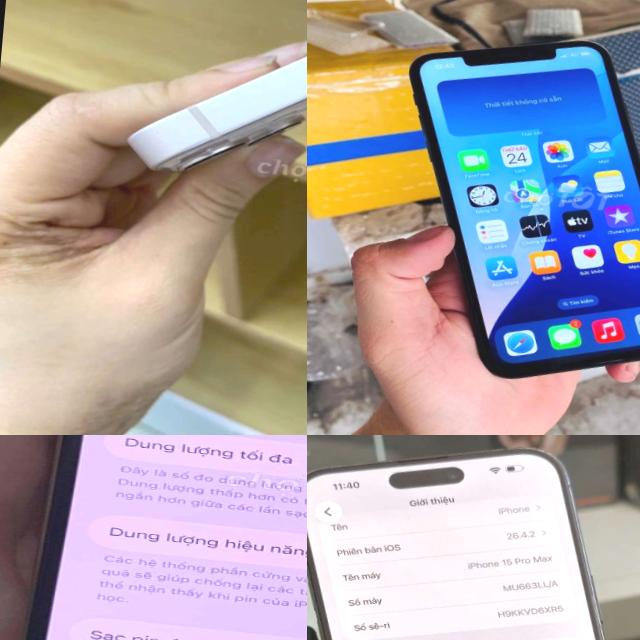gen_12_13: (4, 435, 307, 640), (120, 0, 307, 204)
gen_15: (307, 435, 640, 640)
gen_x_xs: (378, 24, 640, 394)
